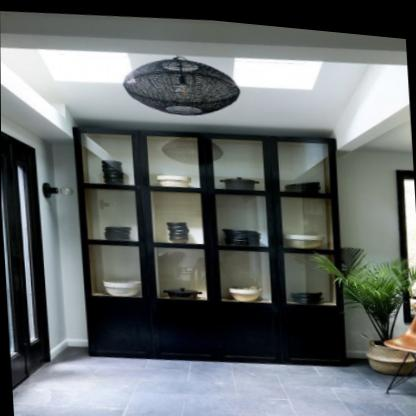Ceramic floor: (43, 337, 386, 416)
Cupboard: (72, 127, 357, 361)
Gypsum Board: (0, 4, 407, 165)
